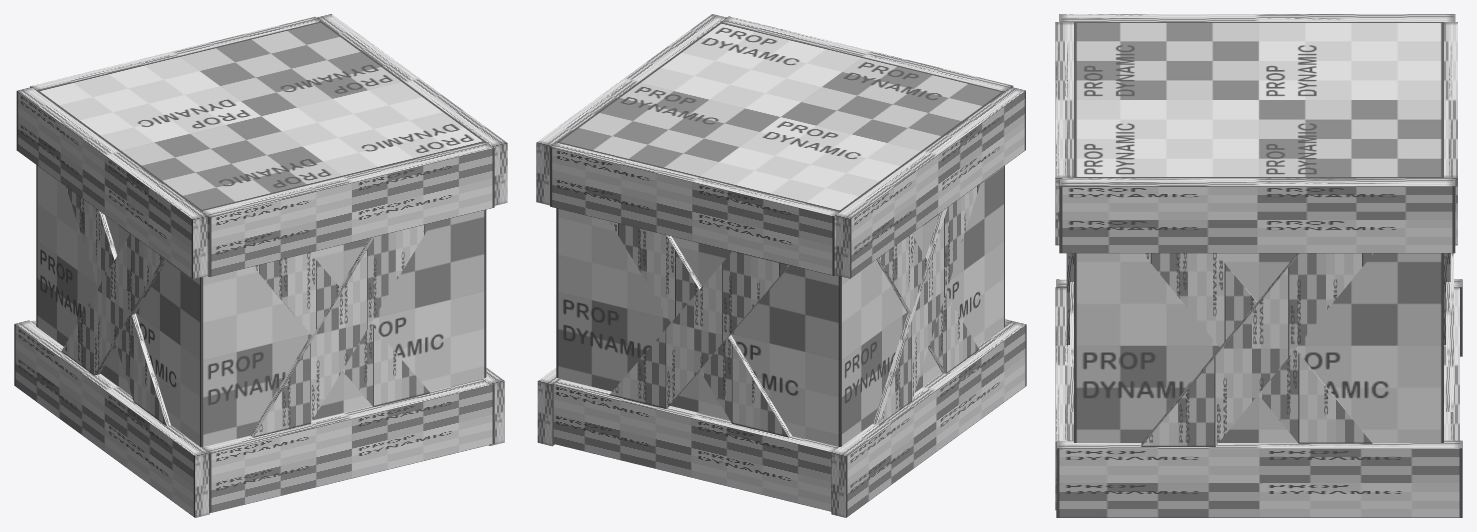
Rendered from Crate(blockade).fbx.
3 views of the same model, side by side, from view 1: azimuth 30°, elevation 25°; view 2: azimuth 150°, elevation 25°; view 3: azimuth 270°, elevation 25° (orthographic). The views are drawn at different scales.
Parts seen in each view (by area): view 1: Crate_blockade_, crate_trim__1_, crate_trim__6_, crate_trim__4_, crate_trim__3_, crate_trim_center__1_, crate_trim_center__1__3, crate_trim_center__3_, crate_trim__2_, crate_trim, crate_trim__7_; view 2: Crate_blockade_, crate_trim, crate_trim__5_, crate_trim__4_, crate_trim__3_, crate_trim_center__1_, crate_trim_center__2_, crate_trim_center__1__2, crate_trim__2_, crate_trim__1_, crate_trim__7_; view 3: Crate_blockade_, crate_trim__7_, crate_trim__2_, crate_trim_center, crate_trim__1_, crate_trim__3_, crate_trim, crate_trim__6_, crate_trim__5_, crate_trim_center__2_, crate_trim_center__3_, crate_trim_center__1__3.
Part boxes in pixels (x1,y1,x2,y2): Crate_blockade_: (36, 21, 486, 447); crate_trim__1_: (201, 142, 494, 276); crate_trim__6_: (203, 379, 494, 513); crate_trim__4_: (14, 320, 209, 517); crate_trim__3_: (16, 87, 207, 279); crate_trim_center__1_: (61, 187, 170, 426); crate_trim_center__1__3: (250, 223, 431, 437); crate_trim_center__3_: (253, 252, 430, 406); crate_trim__2_: (317, 14, 507, 205); crate_trim: (30, 17, 320, 90); crate_trim__7_: (482, 368, 504, 445); Crate_blockade_: (556, 22, 1004, 446); crate_trim: (550, 142, 840, 275); crate_trim__5_: (553, 379, 838, 511); crate_trim__4_: (831, 321, 1026, 517); crate_trim__3_: (835, 87, 1025, 278); crate_trim_center__1_: (873, 183, 980, 425); crate_trim_center__2_: (609, 251, 789, 408); crate_trim_center__1__2: (610, 221, 791, 437); crate_trim__2_: (536, 14, 726, 205); crate_trim__1_: (721, 16, 1013, 91); crate_trim__7_: (537, 368, 560, 446); Crate_blockade_: (1074, 22, 1443, 442); crate_trim__7_: (1056, 440, 1462, 517); crate_trim__2_: (1059, 178, 1455, 253); crate_trim_center: (1141, 253, 1373, 446); crate_trim__1_: (1055, 22, 1073, 245); crate_trim__3_: (1059, 14, 1455, 21); crate_trim: (1444, 22, 1457, 245); crate_trim__6_: (1055, 287, 1073, 510); crate_trim__5_: (1444, 287, 1459, 440); crate_trim_center__2_: (1446, 253, 1453, 411); crate_trim_center__3_: (1070, 282, 1073, 411); crate_trim_center__1__3: (1066, 253, 1073, 344).
Size of the model in its own units: 81.3 by 73.71 by 81.12.
